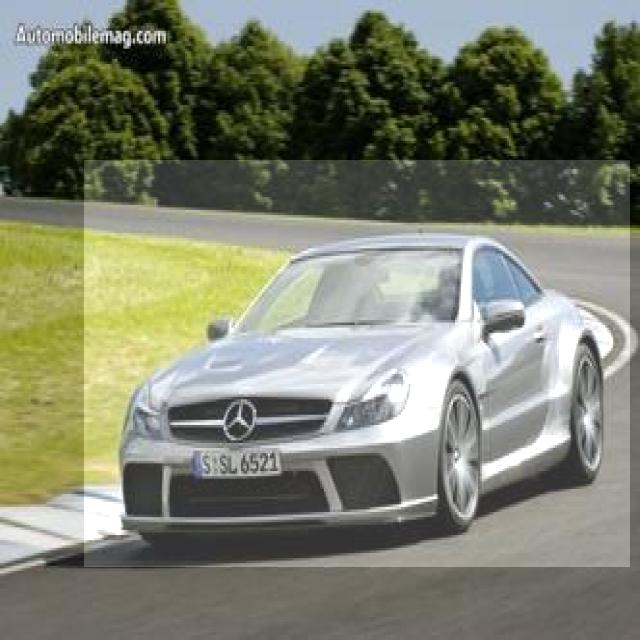Car: (84, 160, 630, 567)
